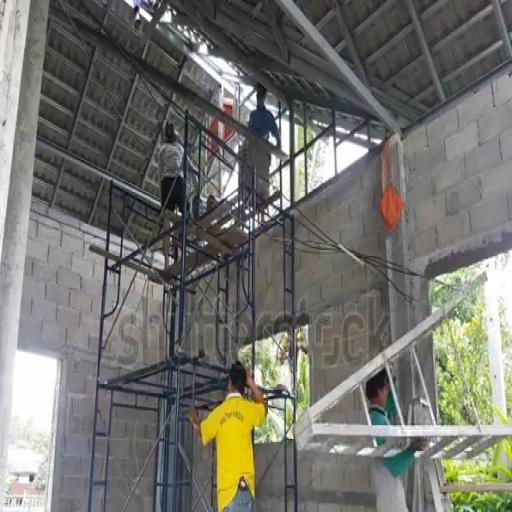head and helmet: (366, 369, 390, 408), (228, 362, 247, 394), (164, 121, 176, 143), (256, 83, 267, 106)
